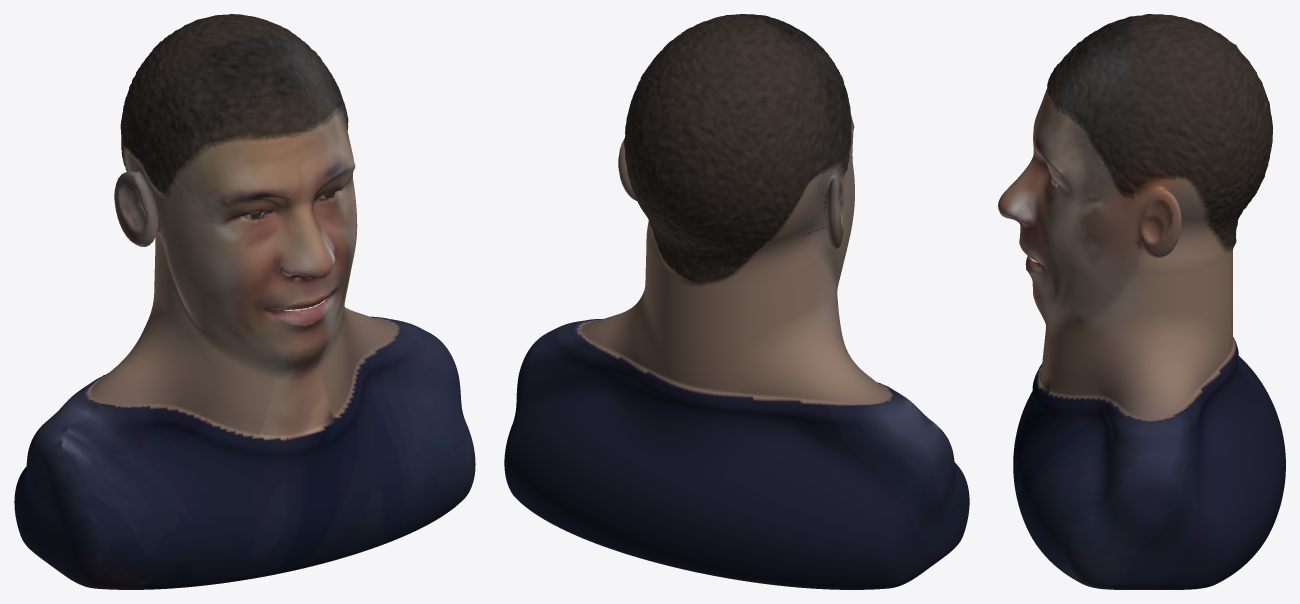
Rendered from sam_take2.glb.
3 renders of one model, left to right at view 1: azimuth 30°, elevation 25°; view 2: azimuth 150°, elevation 25°; view 3: azimuth 270°, elevation 25°, orthographic. The views are drawn at different scales.
Parts seen in each view (by area): view 1: head; view 2: head; view 3: head.
Boxes of the visible parts, left/top/right/bottom form: head: left=14, top=14, right=475, bottom=589; head: left=504, top=14, right=969, bottom=589; head: left=998, top=14, right=1285, bottom=589.
Size of the model in its own units: 0.3556 by 0.416 by 0.2276.
